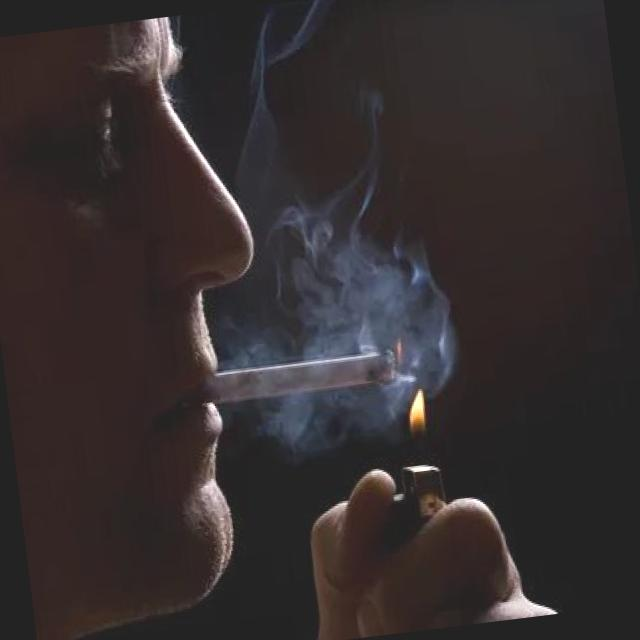smoke: (209, 338, 418, 408)
